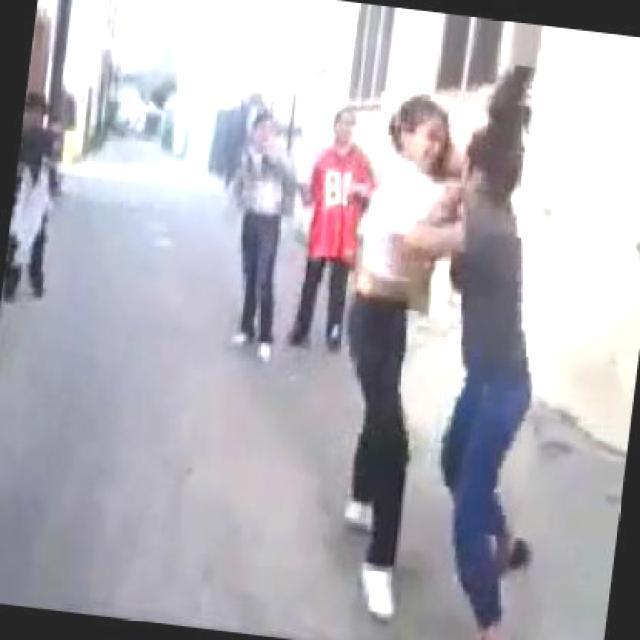fight: (326, 57, 552, 454)
non-fight: (0, 88, 74, 306)
